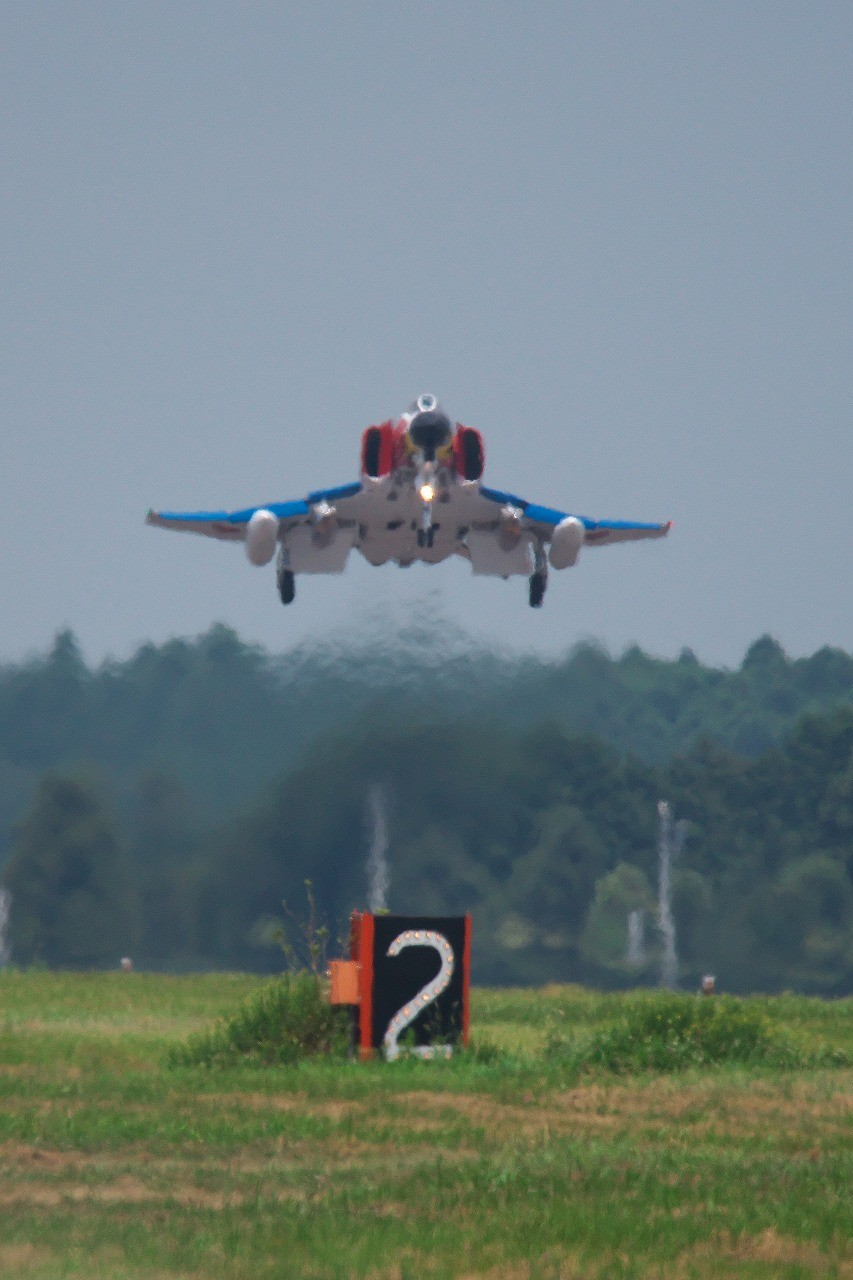F4: (144, 392, 672, 607)
